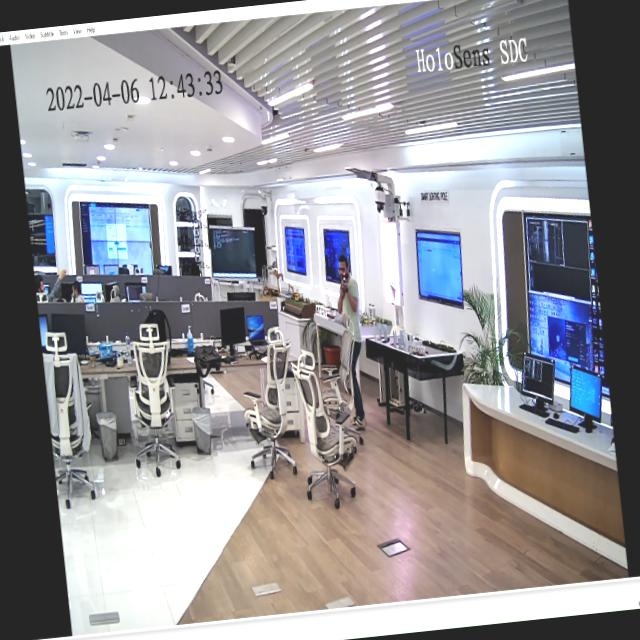long weapon: (338, 265, 352, 298)
